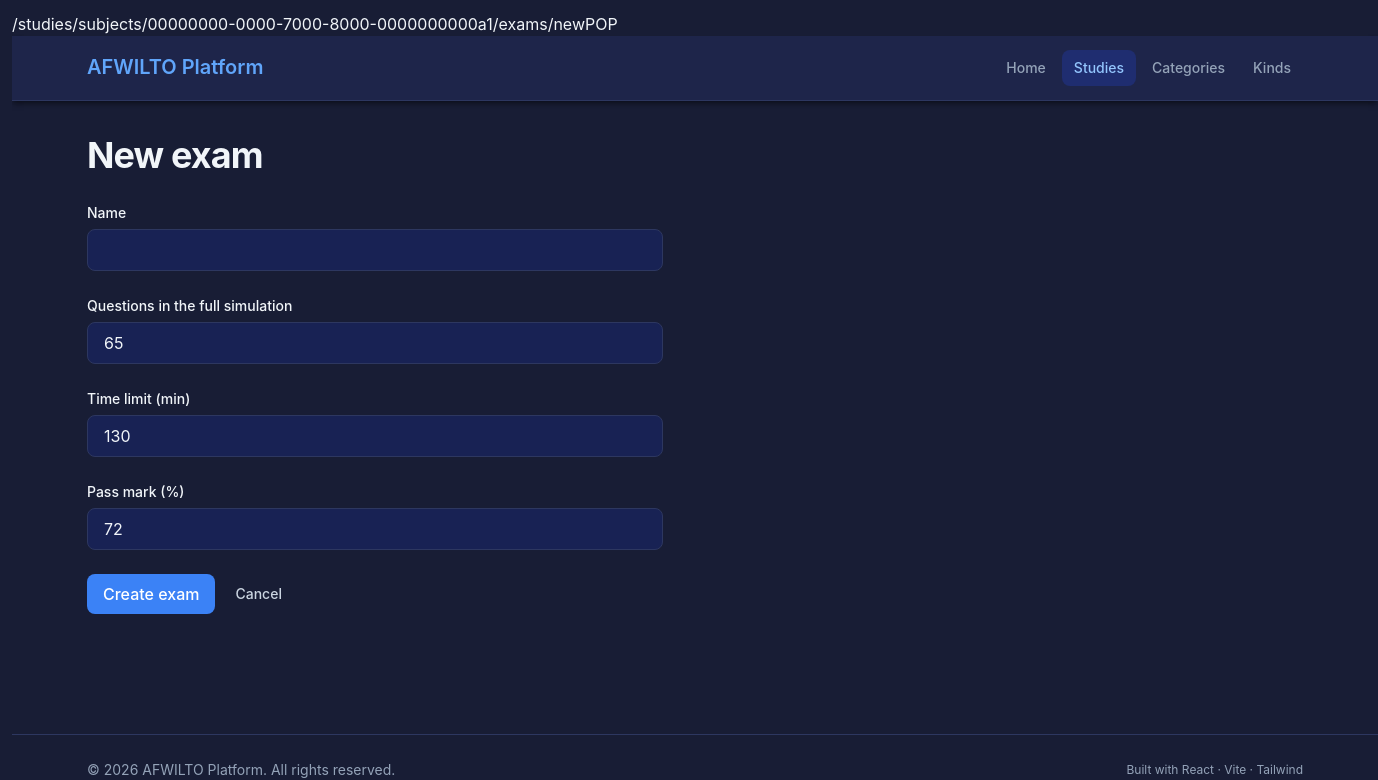
Test: NewExamPage (S08-1) › an empty name shows a field error and sends no request (S08-1)
expect the heading "New exam" is shown: met, box [87,133,263,178]
Click the button "Create exam" at (151, 594), box [87,574,216,614]
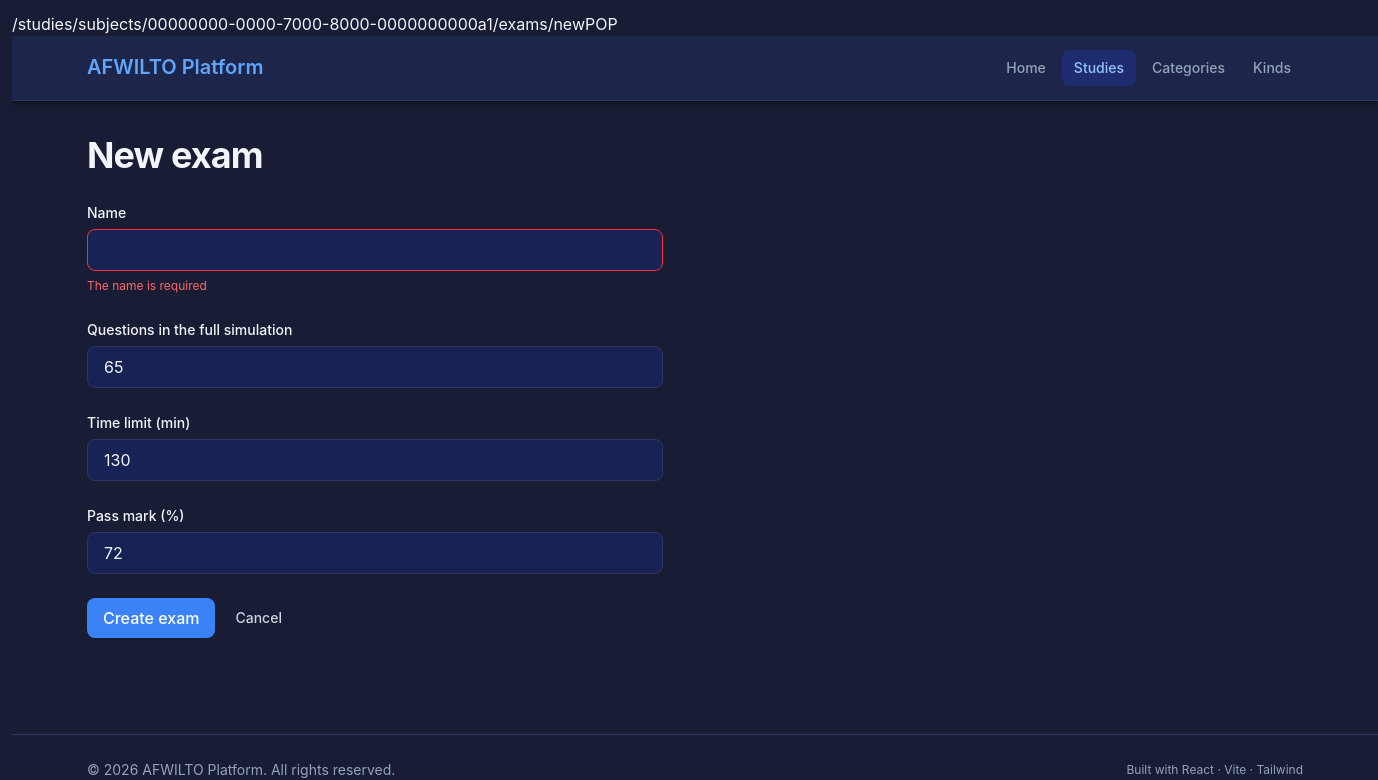
expect the message reads "The name is required": met, box [87,278,207,293]
